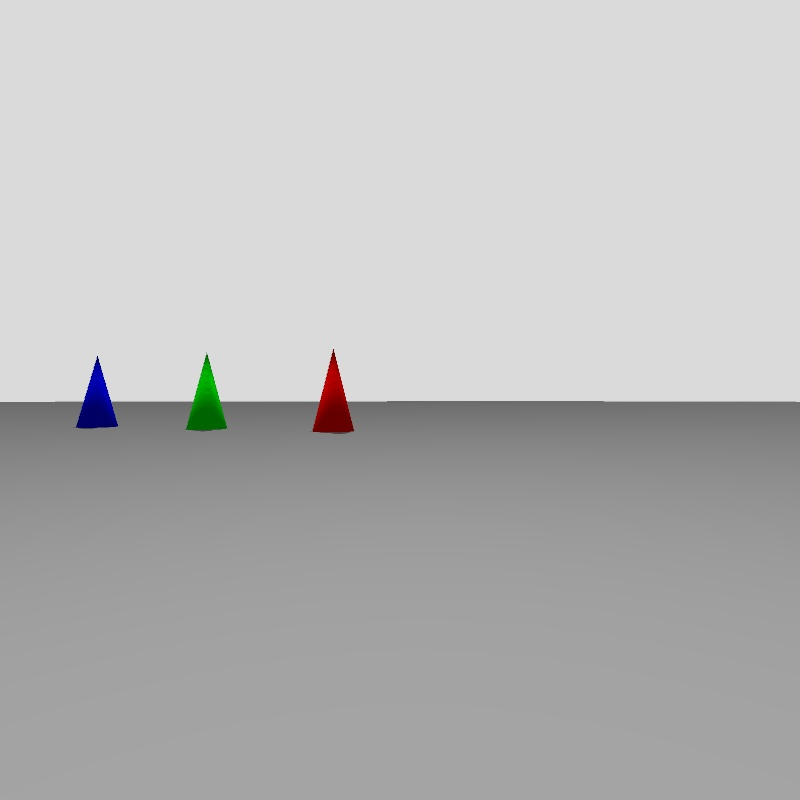Blue_cone: (76, 357, 117, 428)
Green_cone: (186, 354, 226, 430)
Red_cone: (313, 351, 353, 433)
